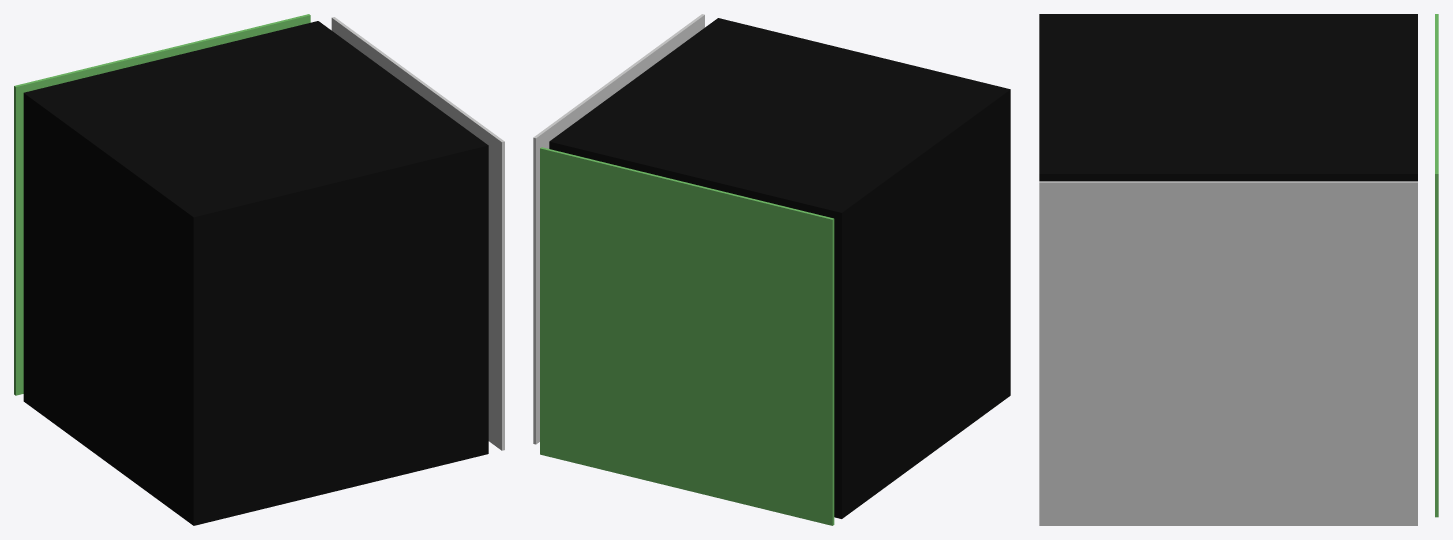
3 views of the same model, side by side, from view 1: azimuth 30°, elevation 25°; view 2: azimuth 150°, elevation 25°; view 3: azimuth 270°, elevation 25° (orthographic). The views are drawn at different scales.
Parts seen in each view (by area): view 1: Cube, yellow-1, blue-3; view 2: Cube, blue-3, yellow-1; view 3: yellow-1, Cube, blue-3.
Part boxes in pixels (x1,y1,x2,y2): Cube: (23,21,488,525); yellow-1: (331,17,504,450); blue-3: (14,14,310,395); Cube: (549,18,1010,518); blue-3: (540,147,834,525); yellow-1: (533,14,704,444); yellow-1: (1039,181,1417,525); Cube: (1039,14,1417,181); blue-3: (1435,14,1438,517).
Size of the model in its own units: 2.11 by 2 by 2.11.
